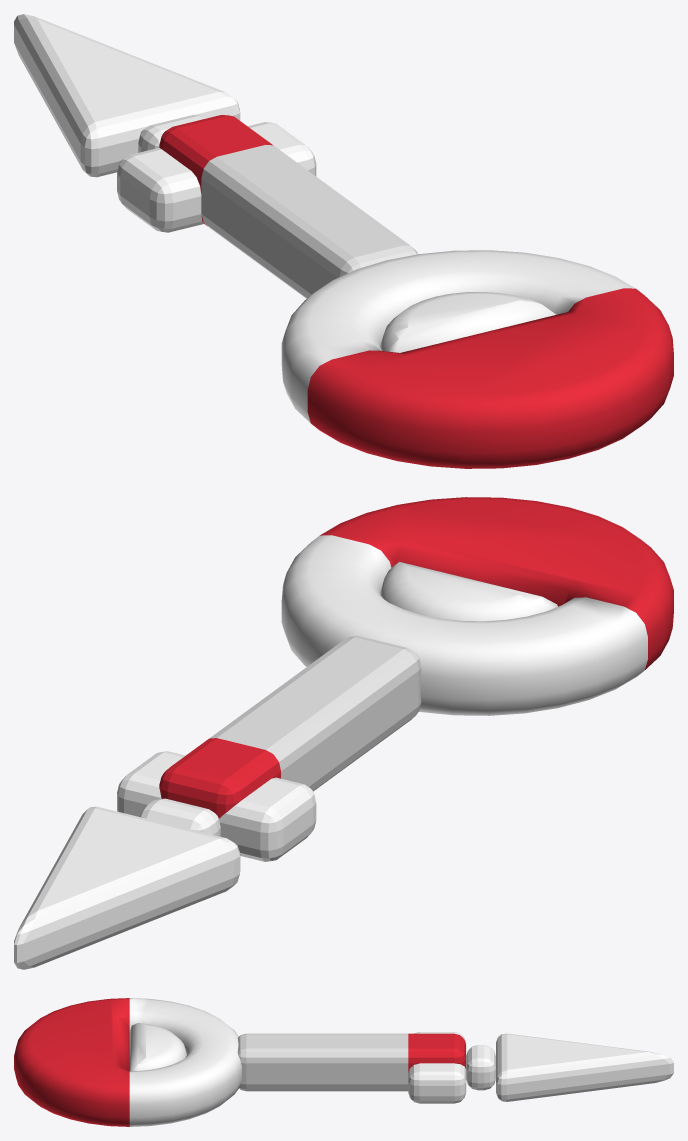
The model's file is citlalin_tlamina_blender_v1.gltf.
3 renders of one model, top to bottom at view 1: azimuth 30°, elevation 25°; view 2: azimuth 150°, elevation 25°; view 3: azimuth 270°, elevation 25°, orthographic. The views are drawn at different scales.
Visible parts, largest first — view 1: outer, Tecpatl, Wood, inner; view 2: outer, Tecpatl, Wood, inner; view 3: outer, Tecpatl, Wood, inner.
Part boxes in pixels (left/top/right/bottom): outer: left=281, top=250, right=673, bottom=468; Tecpatl: left=14, top=14, right=316, bottom=232; Wood: left=159, top=115, right=418, bottom=298; inner: left=380, top=292, right=555, bottom=352; outer: left=281, top=497, right=673, bottom=715; Tecpatl: left=14, top=751, right=316, bottom=969; Wood: left=159, top=636, right=421, bottom=818; inner: left=380, top=562, right=557, bottom=621; outer: left=14, top=998, right=241, bottom=1126; Tecpatl: left=408, top=1032, right=673, bottom=1103; Wood: left=237, top=1033, right=465, bottom=1091; inner: left=129, top=1023, right=186, bottom=1071.
Bounding box in the file's own units: 1 × 0.2001 × 2.85.
